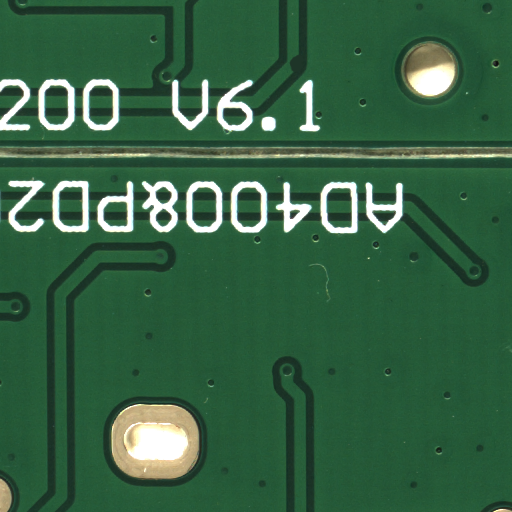Mouse_bite: (296, 64, 309, 82)
